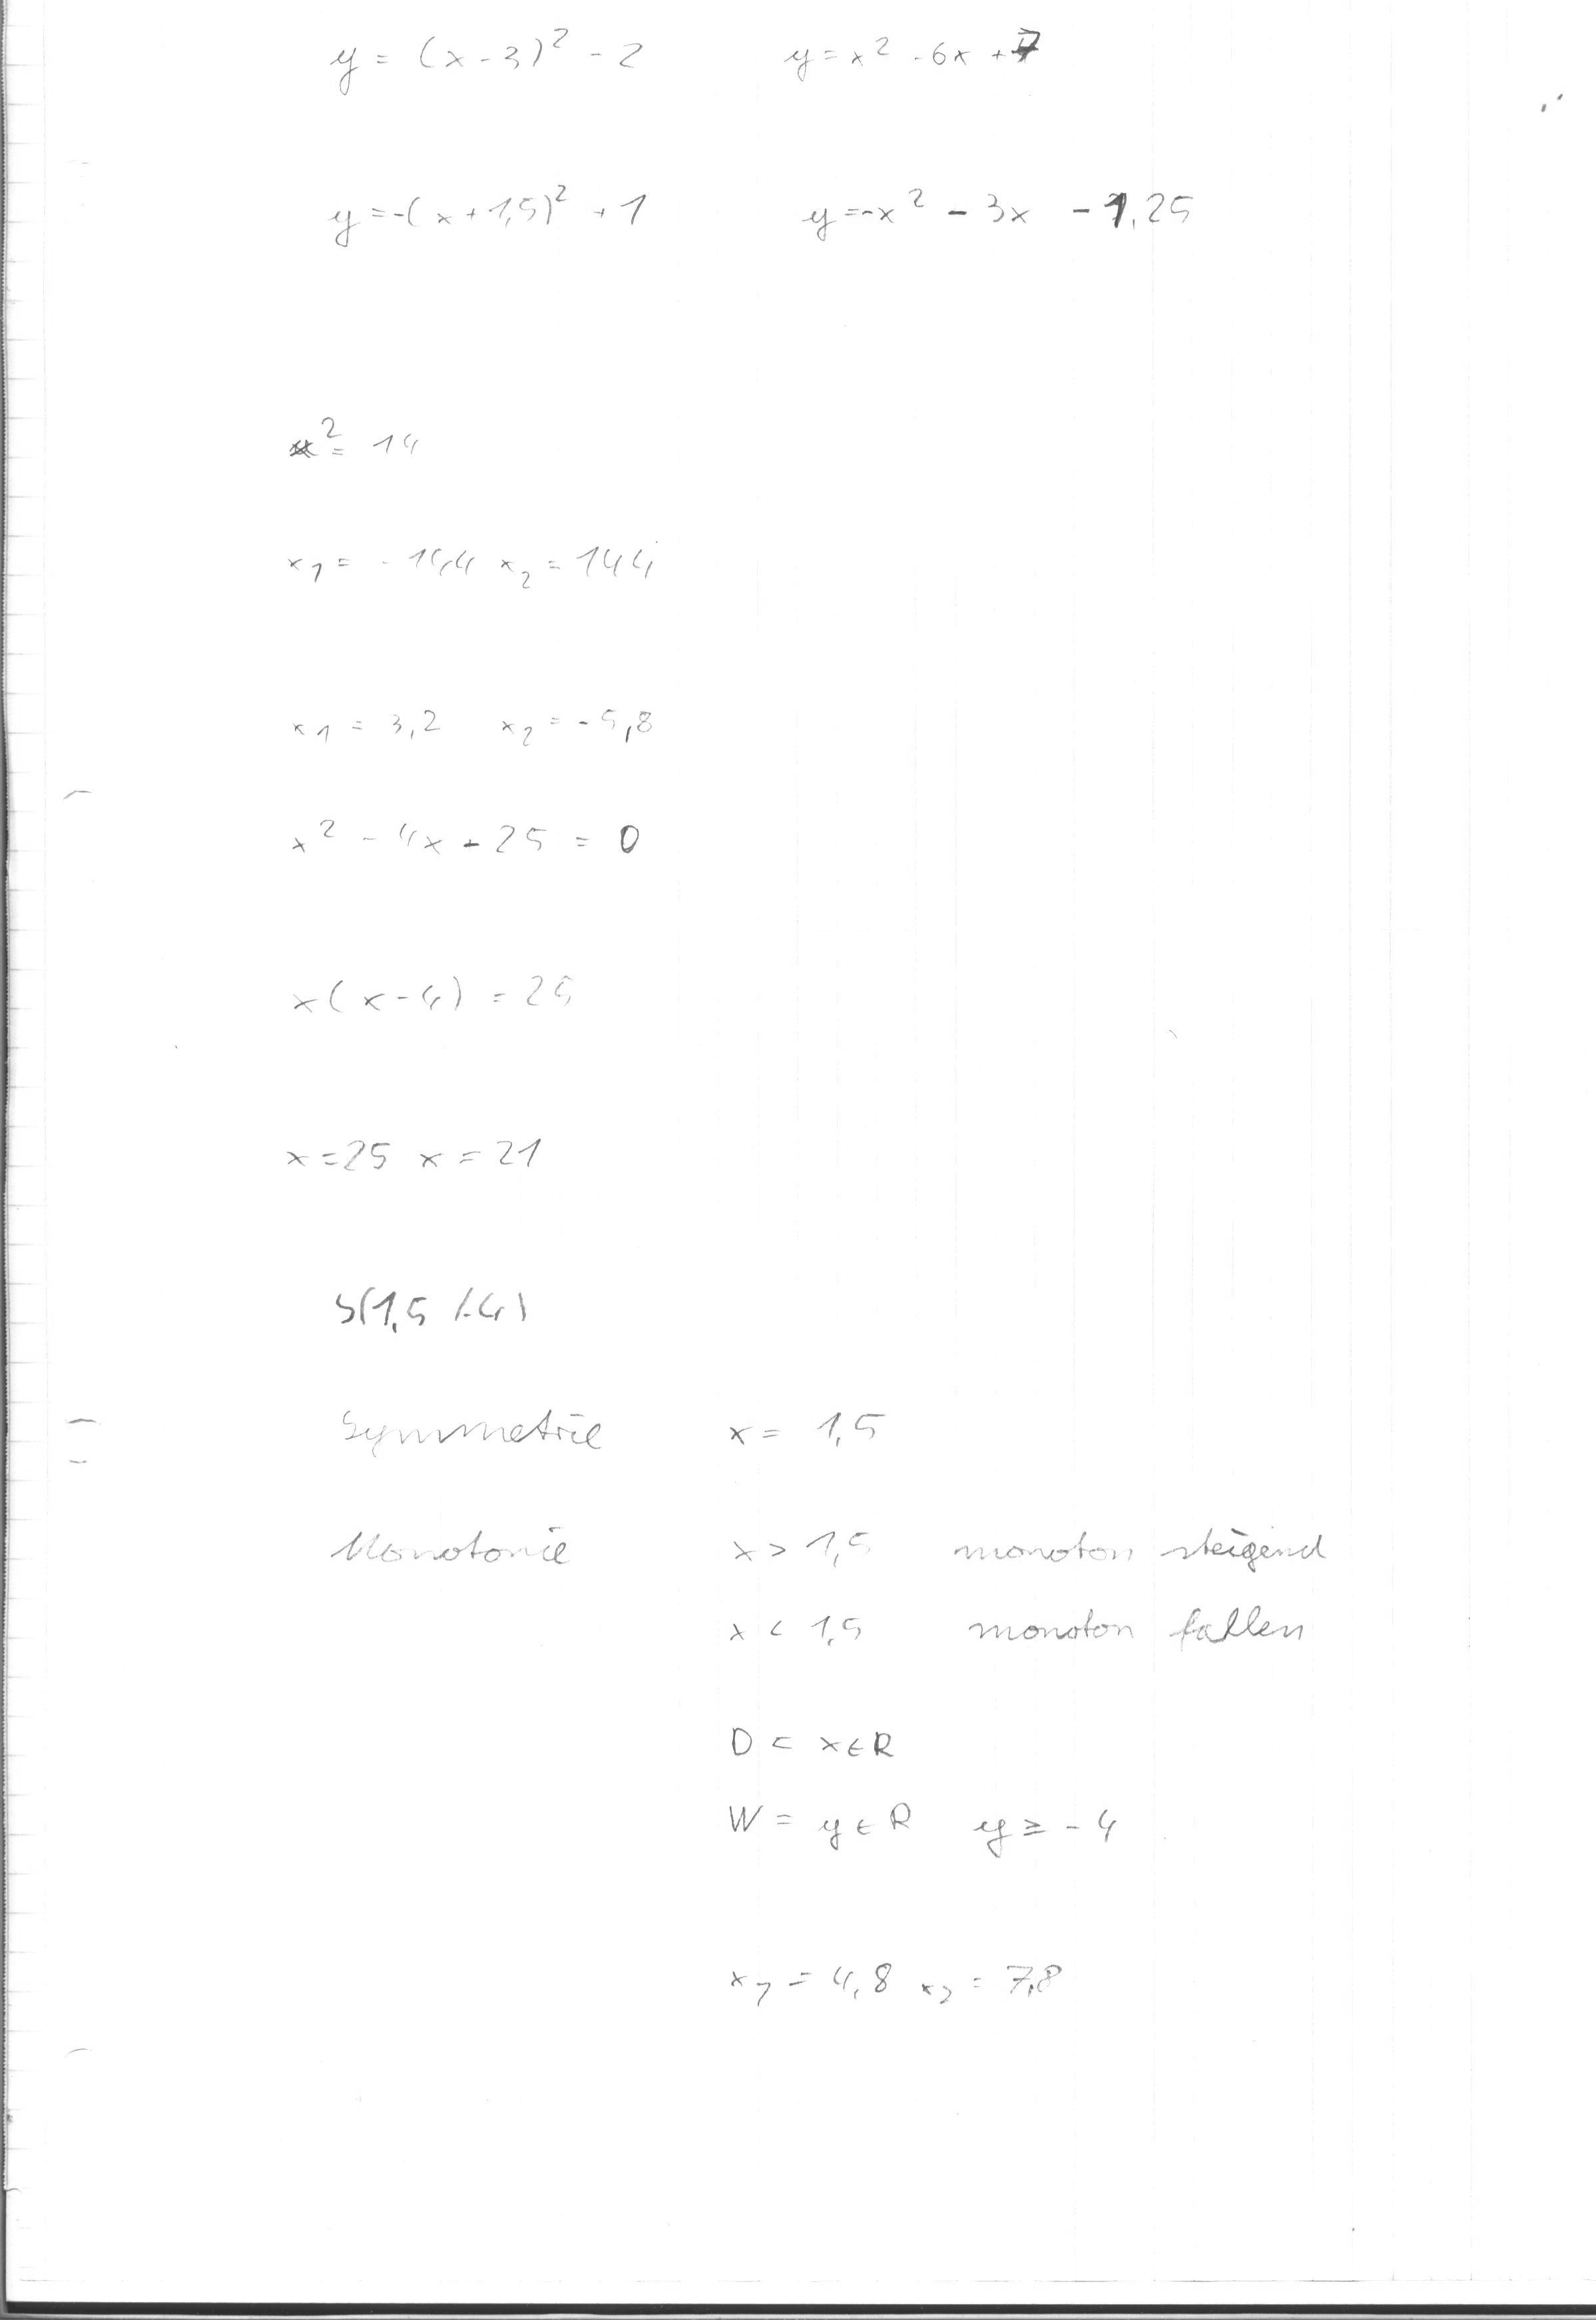word: (269, 670, 675, 884), (941, 1510, 1330, 1657), (312, 1394, 617, 1580), (781, 159, 1212, 278), (295, 148, 678, 277), (266, 509, 662, 615), (293, 1239, 569, 1378), (253, 1093, 569, 1207), (308, 7, 668, 106), (261, 938, 595, 1044), (712, 1713, 928, 1865), (716, 1942, 1067, 2019), (775, 5, 1069, 95), (709, 1513, 886, 1657), (267, 393, 454, 483), (958, 1788, 1127, 1875), (712, 1394, 890, 1470)
